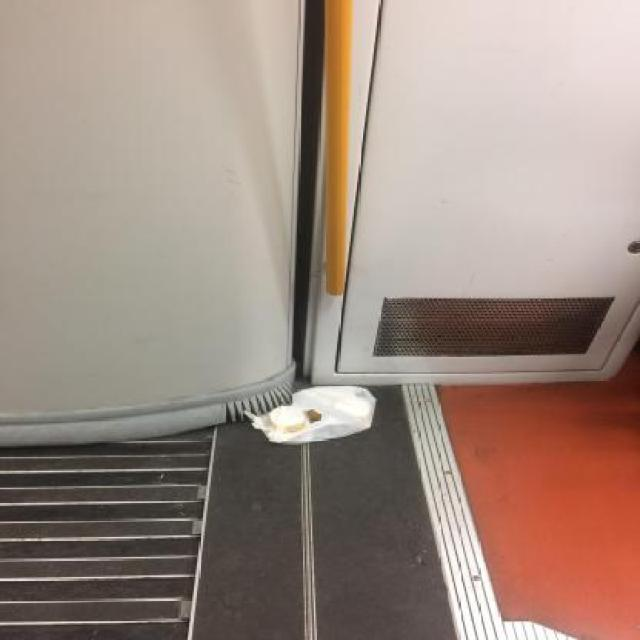plastic: (241, 386, 377, 446), (264, 406, 310, 436)
